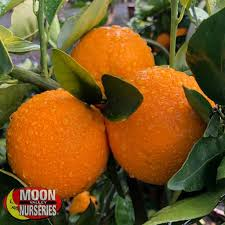orange: (99, 62, 220, 187), (6, 89, 110, 198), (67, 22, 160, 117)
